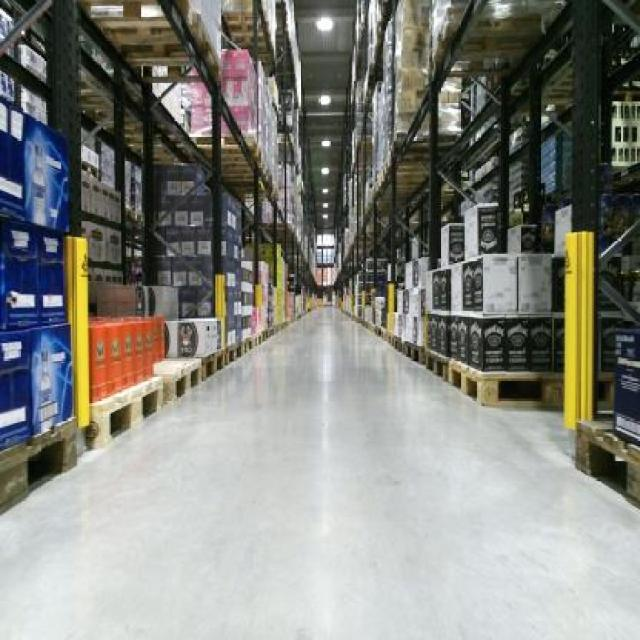pallet: (0, 401, 79, 516), (443, 346, 563, 419), (82, 370, 165, 455), (142, 346, 210, 402), (414, 334, 456, 376), (200, 342, 223, 379)
